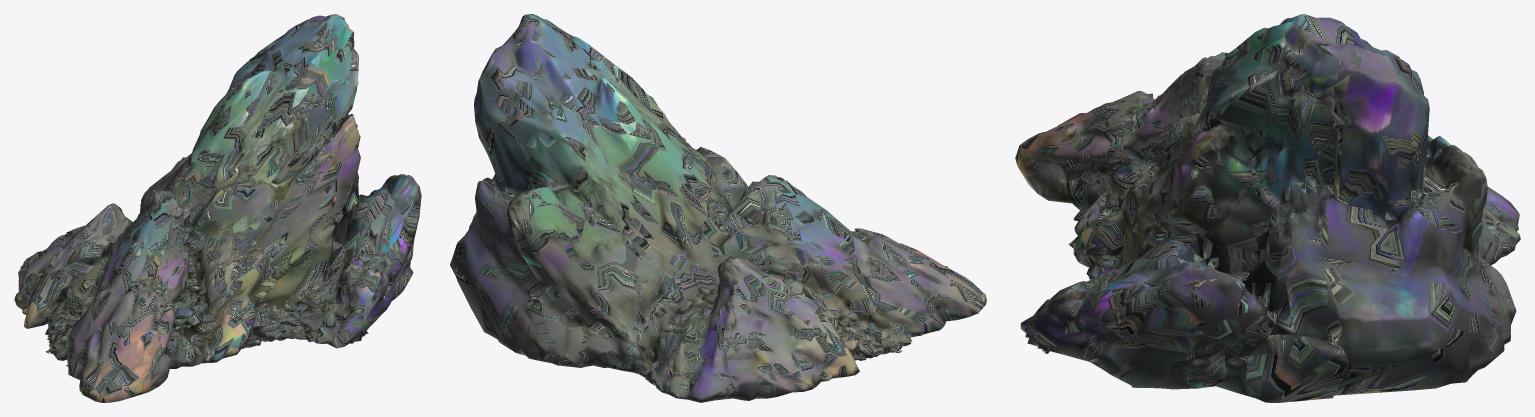
The model's file is Prismatic_Peaks.glb.
The picture shows the model from 3 angles, left to right: view 1: azimuth 30°, elevation 25°; view 2: azimuth 150°, elevation 25°; view 3: azimuth 270°, elevation 25°; orthographic projection. The views are drawn at different scales.
Visible parts, largest first — view 1: Prismatic_Peaks; view 2: Prismatic_Peaks; view 3: Prismatic_Peaks.
Boxes of the visible parts, <box> form: Prismatic_Peaks: <box>14,14,421,402</box>; Prismatic_Peaks: <box>450,14,986,402</box>; Prismatic_Peaks: <box>1015,14,1520,402</box>.
Bounding box in the file's own units: 1.9 × 1.2 × 1.46.
1 material, 1 textured.
